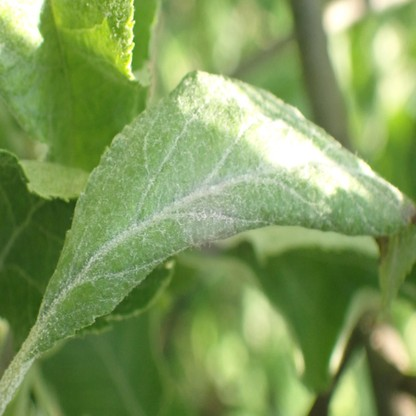powder: (31, 70, 415, 348), (0, 42, 44, 137), (103, 0, 131, 17)
